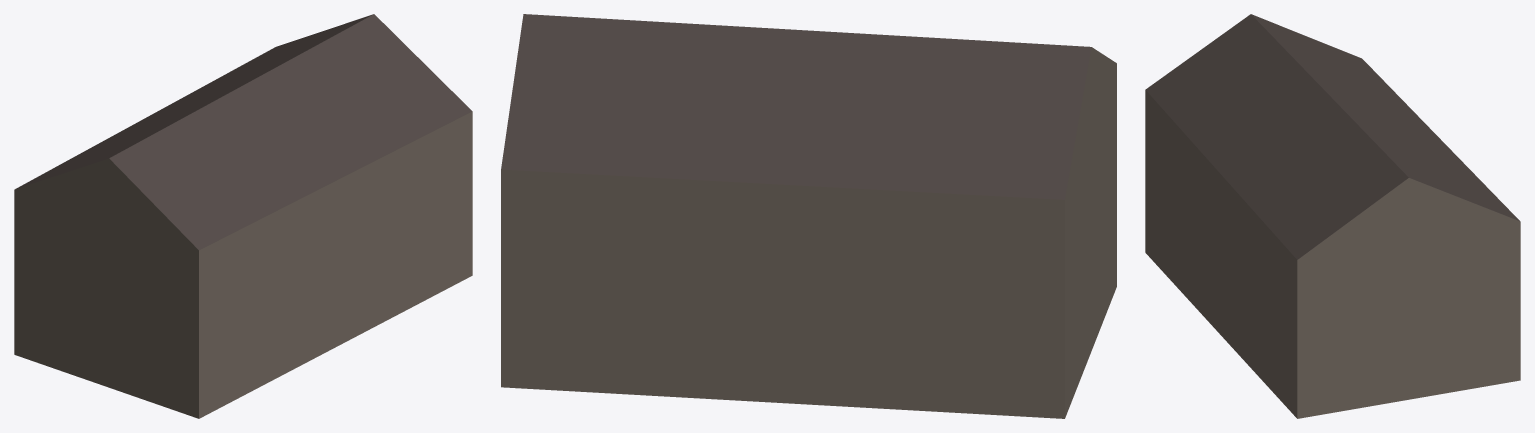
3 views of the same model, side by side, from view 1: azimuth 30°, elevation 25°; view 2: azimuth 150°, elevation 25°; view 3: azimuth 270°, elevation 25° (orthographic). The views are drawn at different scales.
Parts seen in each view (by area): view 1: HP-w734421245; view 2: HP-w734421245; view 3: HP-w734421245.
Boxes of the visible parts, x1,y1,x2,y2 form: HP-w734421245: (14, 14, 472, 418); HP-w734421245: (501, 14, 1116, 418); HP-w734421245: (1145, 14, 1520, 418).
Bounding box in the file's own units: 16.25 × 8.38 × 12.84.
